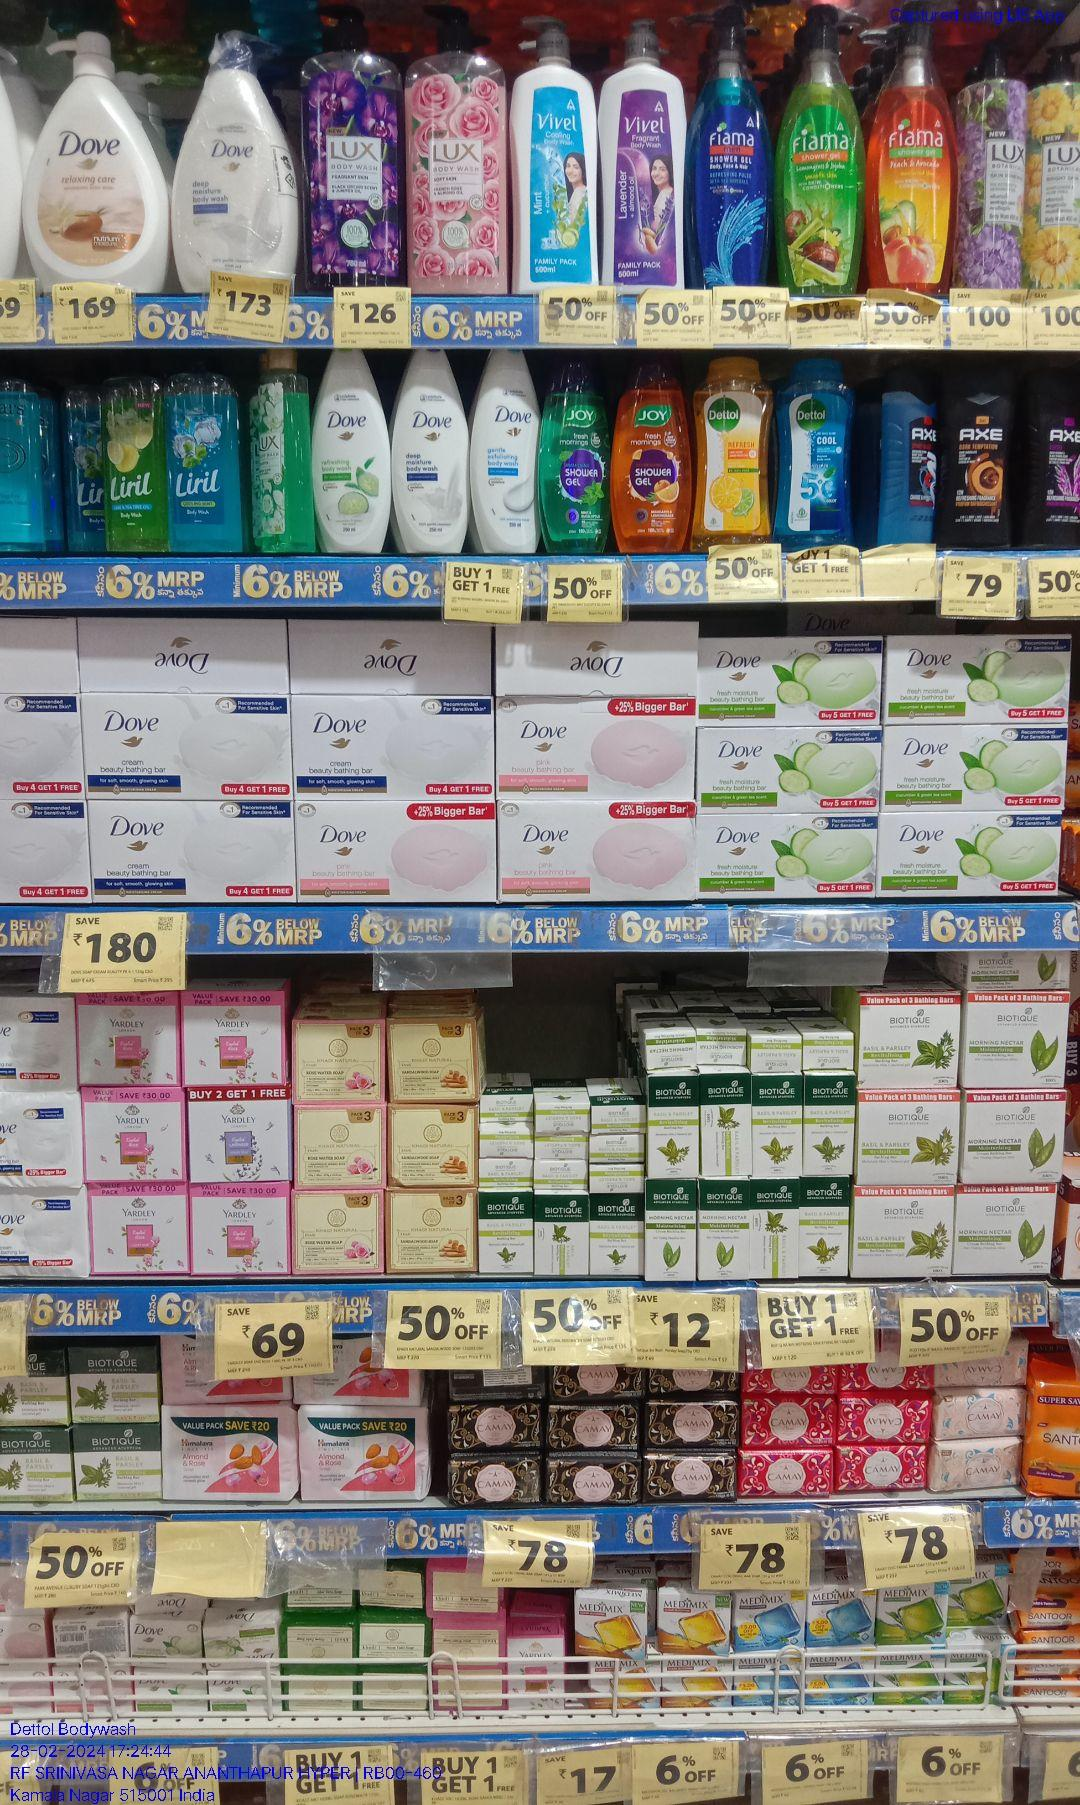Dettol_Bodywash_Cool: (778, 352, 851, 553)
Dettol_Bodywash_Refresh: (696, 359, 773, 555)
Dove_Deep_Moisture_Body_Wash_250ML: (393, 348, 471, 554)
Dove_Gentle_Exfoliating_Body_Wash_250ML: (473, 348, 537, 557)
Dove_Refreshing_Body_Wash_250ML: (312, 348, 390, 555)
Joy_Shower_Gel_Mandarin_and_Lemongrass_250ML: (612, 355, 690, 553)
Joy_Shower_Gel_Mint_and_Eucalyptus_250ML: (540, 347, 609, 554)
Liril_Cooling_Mint_Body_Wash_250ML: (170, 357, 243, 558)
Liril_Lime_and_Tea_Tree_Oil_Body_Wash_250ML: (105, 346, 165, 553)
Lux_Body_Wash_Skin_Detox_Freesia_Scent_and_Alove_Vera_245ML: (252, 347, 301, 554)
